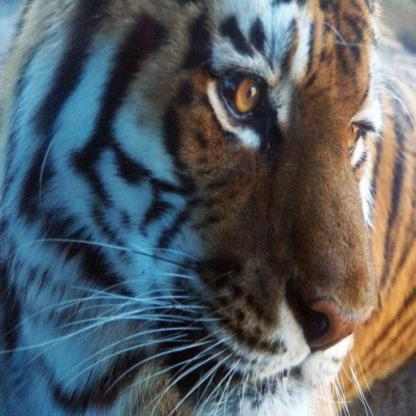Tiger: (0, 1, 415, 414)
